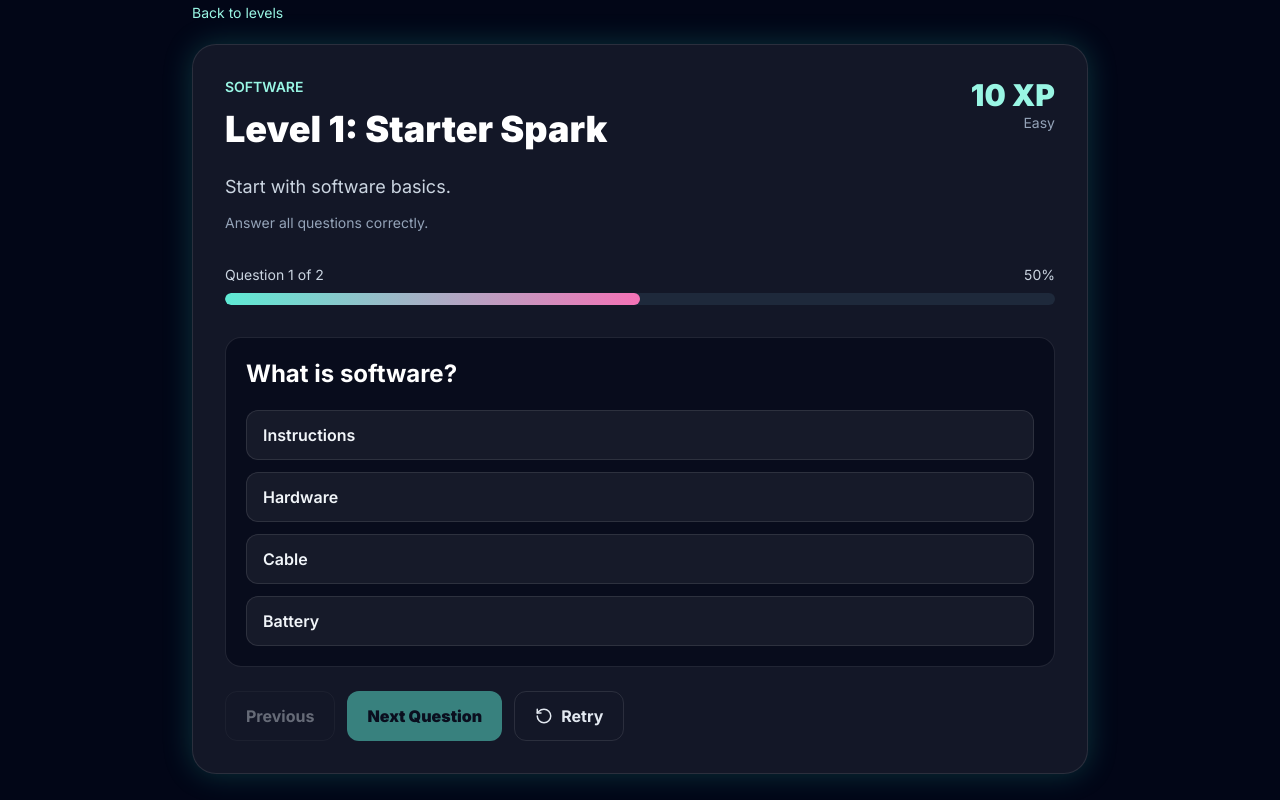
Scenario: ChallengeDetailPage quiz › shows quiz progress and moves to the next question
Expected: the heading "Level 1: Starter Spark" is shown, [225,109,607,149]
Expected: the text "Question 1 of 2" is shown, [225,265,324,285]
Click the button "Instructions". click: {"x": 309, "y": 435}
box: [246,410,1034,460]
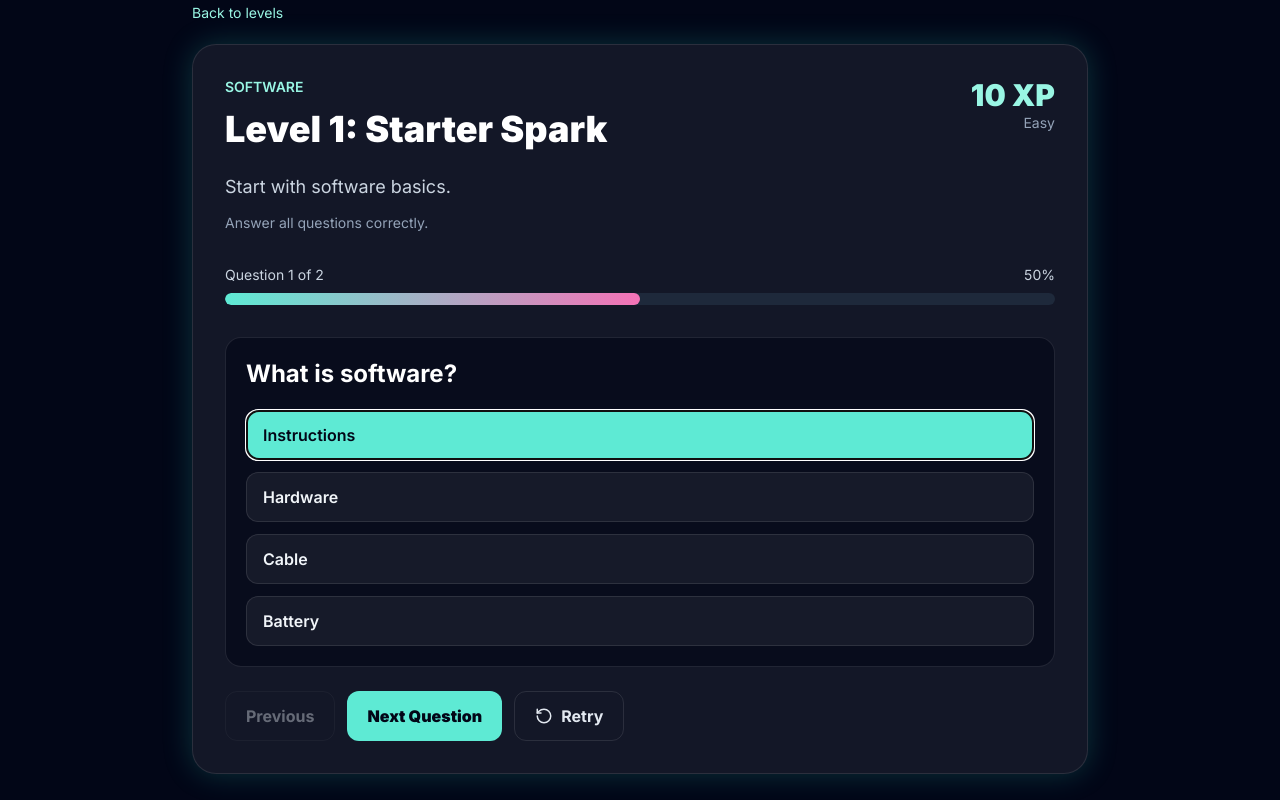
Click the button "Next Question". click: {"x": 425, "y": 716}
box: [347,691,502,741]
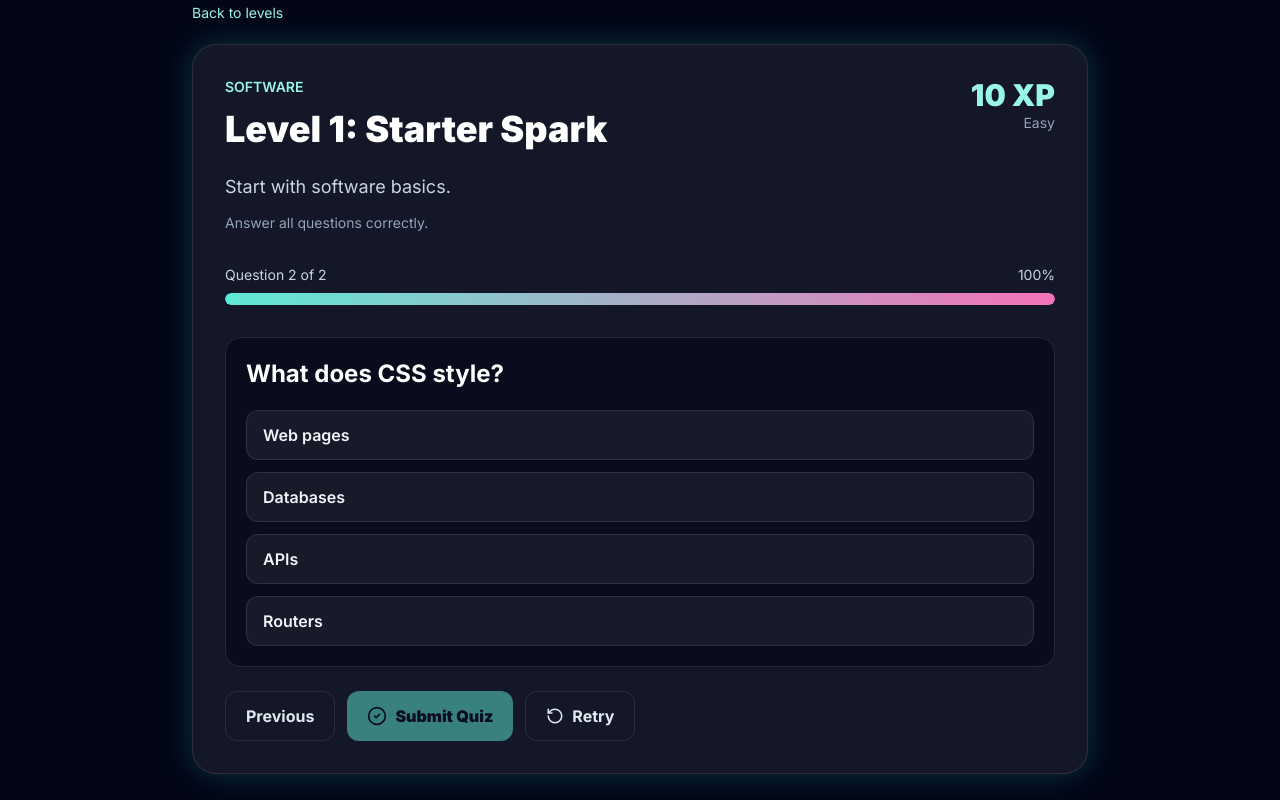
Expected: the text "Question 2 of 2" is shown, [225,265,327,285]
Expected: the heading "What does CSS style?" is shown, [246,359,504,388]
